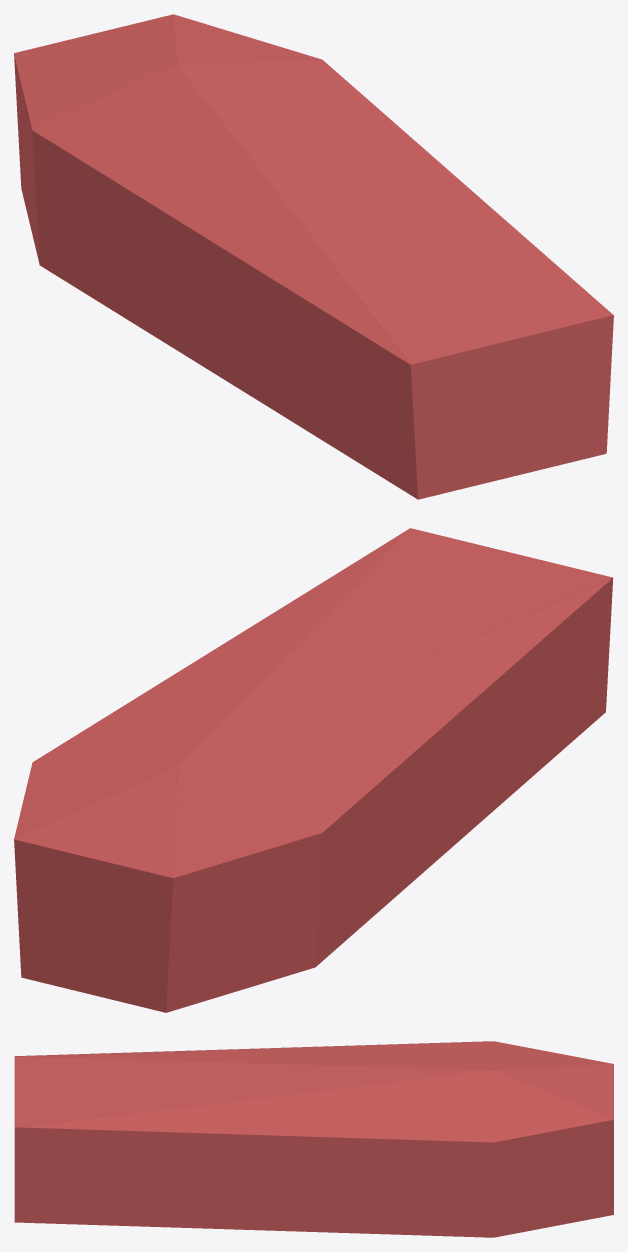
File: casket.glb
3 views of the same model, one above another, from view 1: azimuth 30°, elevation 25°; view 2: azimuth 150°, elevation 25°; view 3: azimuth 270°, elevation 25° (orthographic). The views are drawn at different scales.
Parts seen in each view (by area): view 1: casket_col; view 2: casket_col; view 3: casket_col.
Boxes of the visible parts, left/top/right/bottom form: casket_col: left=14, top=14, right=613, bottom=499; casket_col: left=14, top=528, right=613, bottom=1012; casket_col: left=14, top=1041, right=613, bottom=1237.
Bounding box in the file's own units: 2 × 1.1 × 5.01.
